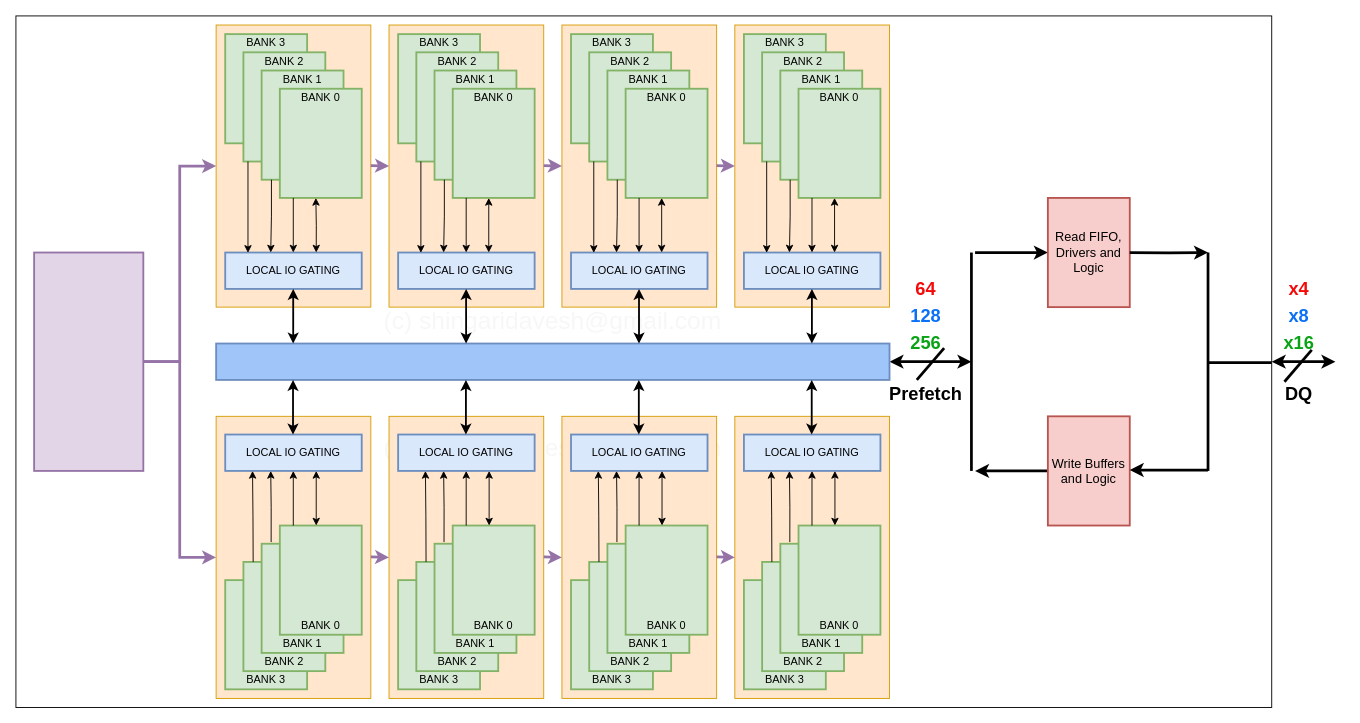
This 1360x723 diagram has some shape labels left out. The shapes that lost their labels are listed below. From the top down, each one's box as (x1, y1, x2, y2) in pixels, then its label:
(33, 251, 144, 471): Control Logic and Address Decoder
(215, 342, 890, 380): GLOBAL IO GATING
